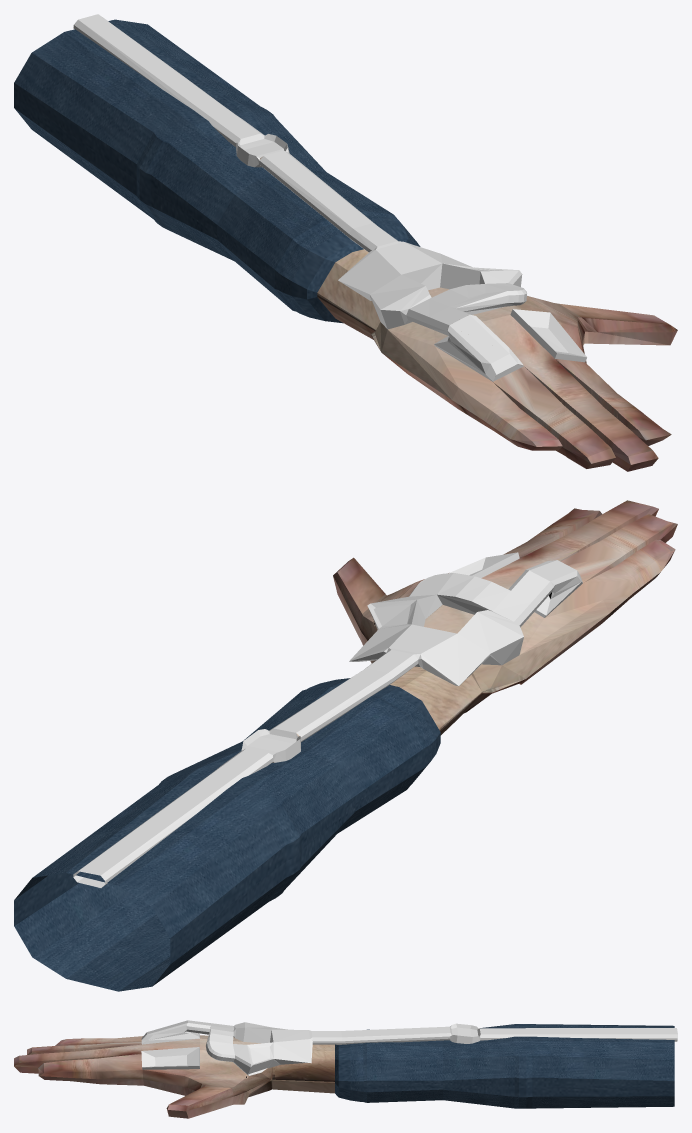
The model's file is Player_Arms.fbx.
3 views of the same model, one above another, from view 1: azimuth 30°, elevation 25°; view 2: azimuth 150°, elevation 25°; view 3: azimuth 270°, elevation 25° (orthographic). The views are drawn at different scales.
Parts seen in each view (by area): view 1: Cube.001; view 2: Cube.001; view 3: Cube.001.
Boxes of the visible parts, x1=… form: Cube.001: x1=14, y1=14, x2=677, y2=471; Cube.001: x1=14, y1=500, x2=677, y2=991; Cube.001: x1=14, y1=1020, x2=677, y2=1118.
Bounding box in the file's own units: 137 × 62.41 × 529.
2 materials, 1 textured.
